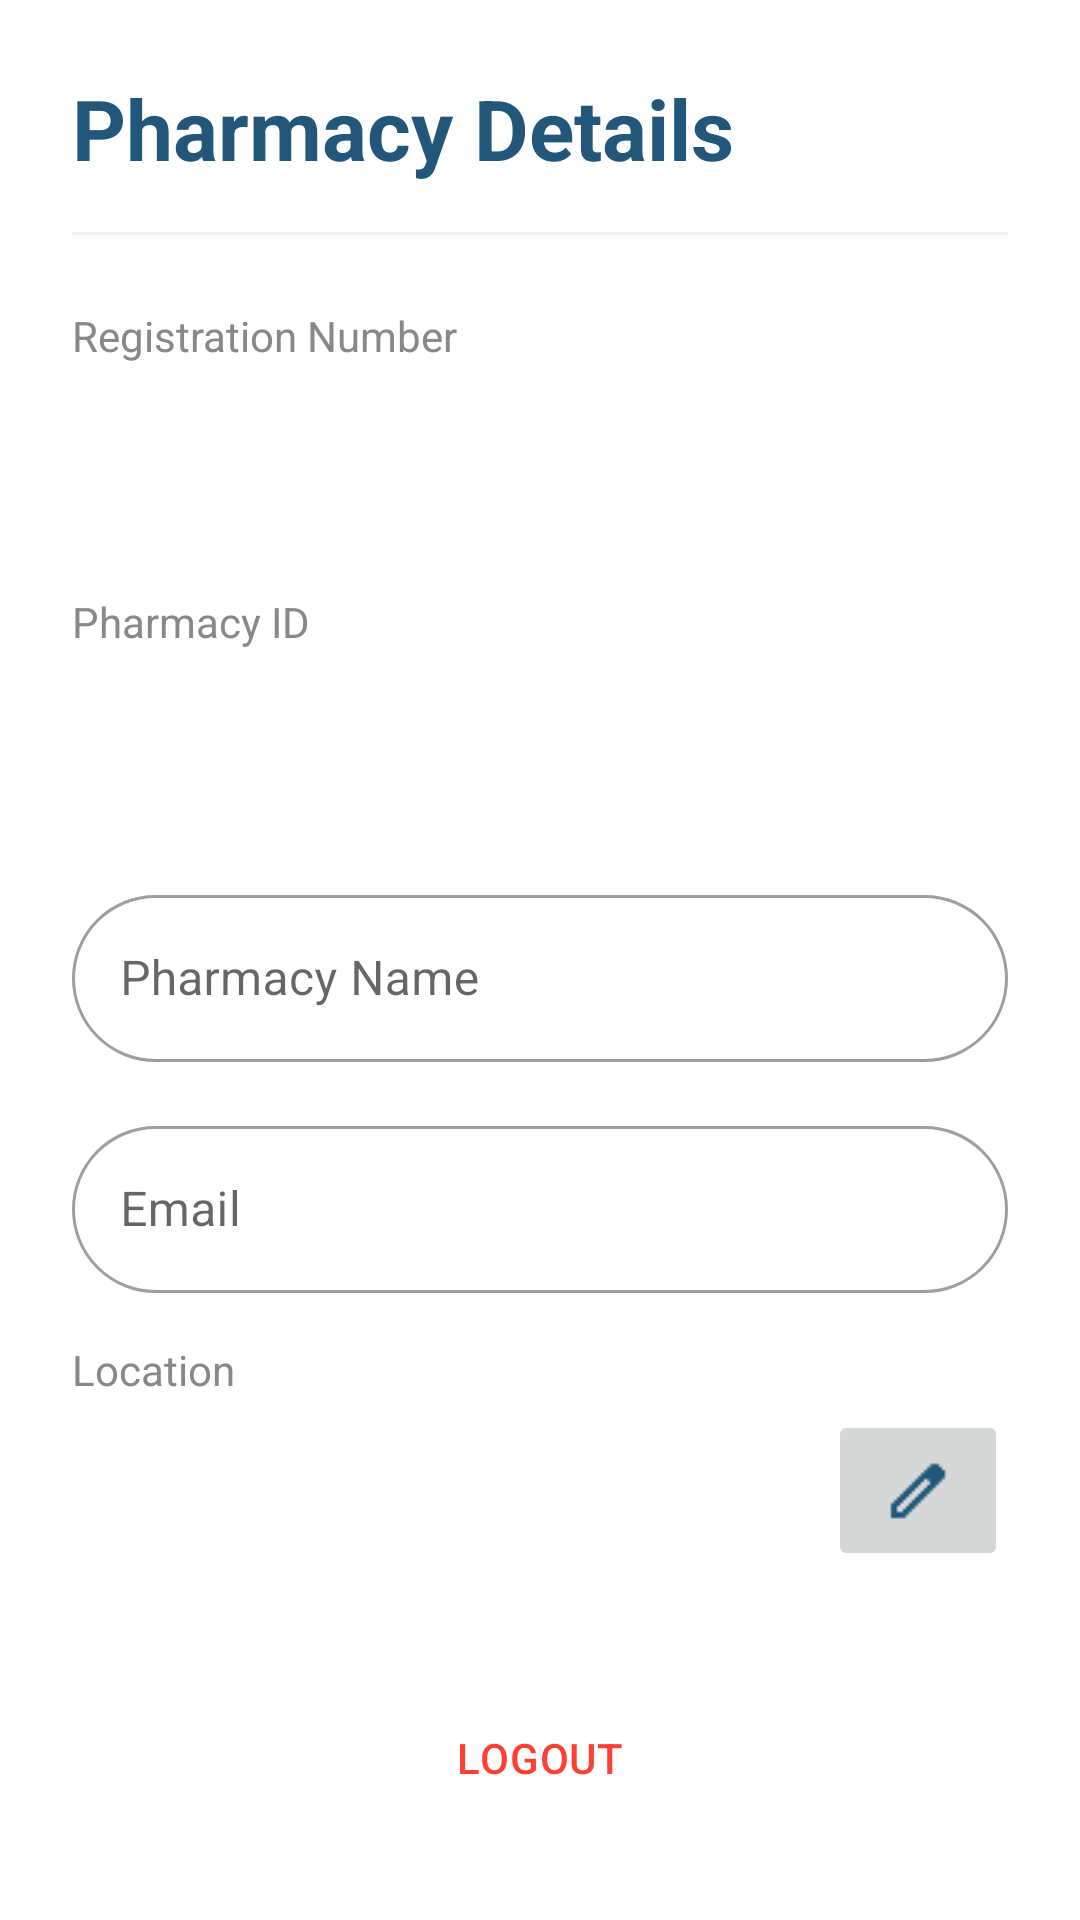

Screen size 1080 × 1920. Icon name, then its center in pixels as point (x, y):
edit location: point (918, 1490)
